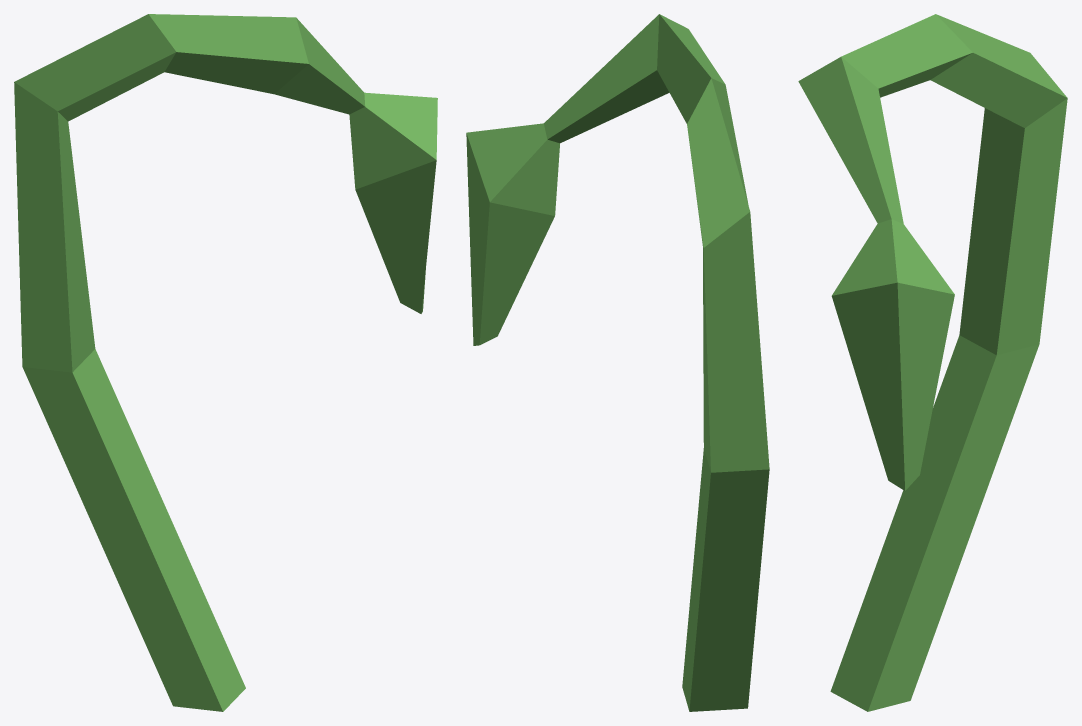
File: Haricot_1-optimized.glb
3 renders of one model, left to right at view 1: azimuth 30°, elevation 25°; view 2: azimuth 150°, elevation 25°; view 3: azimuth 270°, elevation 25°, orthographic. The views are drawn at different scales.
Parts seen in each view (by area): view 1: Tomato_1; view 2: Tomato_1; view 3: Tomato_1.
Part boxes in pixels (box(x1,y1,x2,y2)): Tomato_1: box(14, 14, 437, 711); Tomato_1: box(466, 14, 769, 711); Tomato_1: box(798, 14, 1067, 711).
Size of the model in its own units: 0.1011 by 0.1793 by 0.0647.
